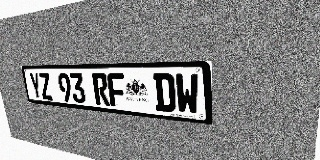3: (69, 73, 86, 104)
9: (57, 73, 73, 102)
D: (153, 73, 176, 113)
F: (107, 73, 127, 108)
R: (92, 73, 110, 106)
W: (175, 73, 200, 115)
Y: (28, 73, 43, 99)
Z: (38, 73, 53, 100)
